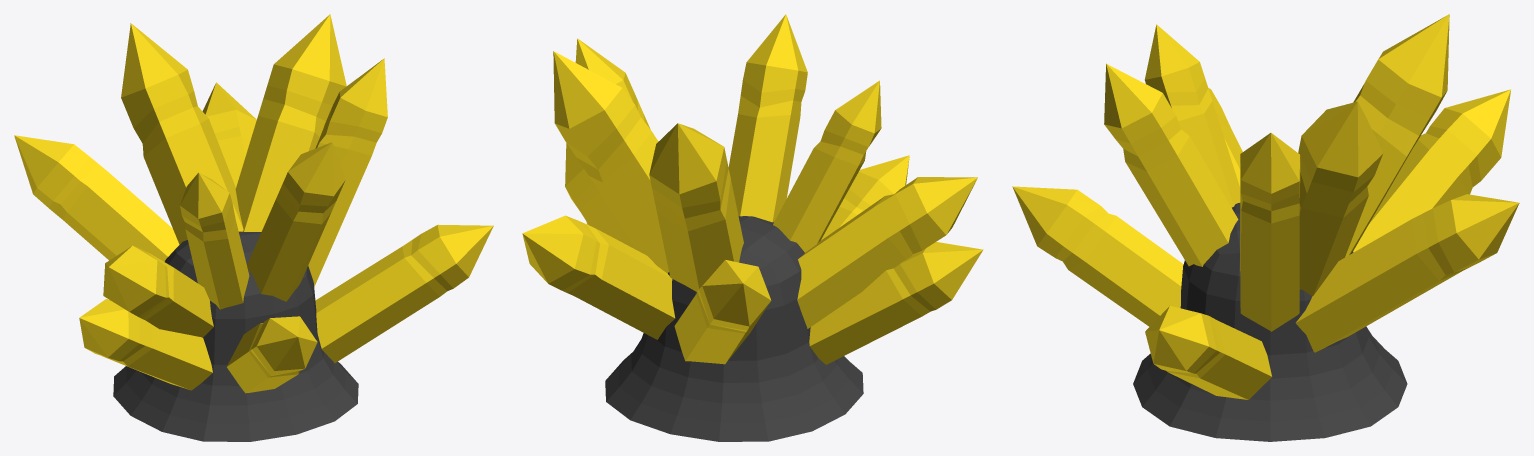
Rendered from mine6.glb.
3 renders of one model, left to right at view 1: azimuth 30°, elevation 25°; view 2: azimuth 150°, elevation 25°; view 3: azimuth 270°, elevation 25°, orthographic. The views are drawn at different scales.
Parts seen in each view (by area): view 1: Mineral.005; view 2: Mineral.005; view 3: Mineral.005.
Part boxes in pixels (x1,y1,x2,y2): Mineral.005: [14, 14, 493, 441]; Mineral.005: [522, 14, 983, 441]; Mineral.005: [1012, 14, 1519, 441].
Size of the model in its own units: 3.04 by 2.26 by 2.92.
